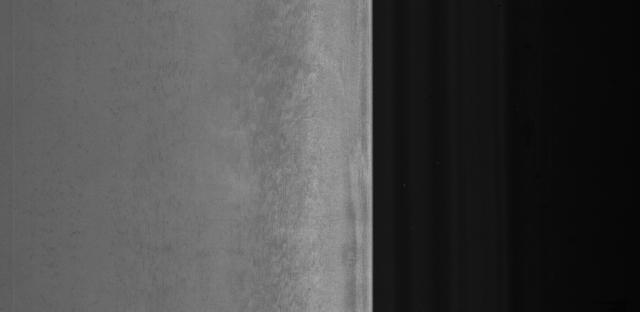silk_spot: (211, 26, 305, 253)
